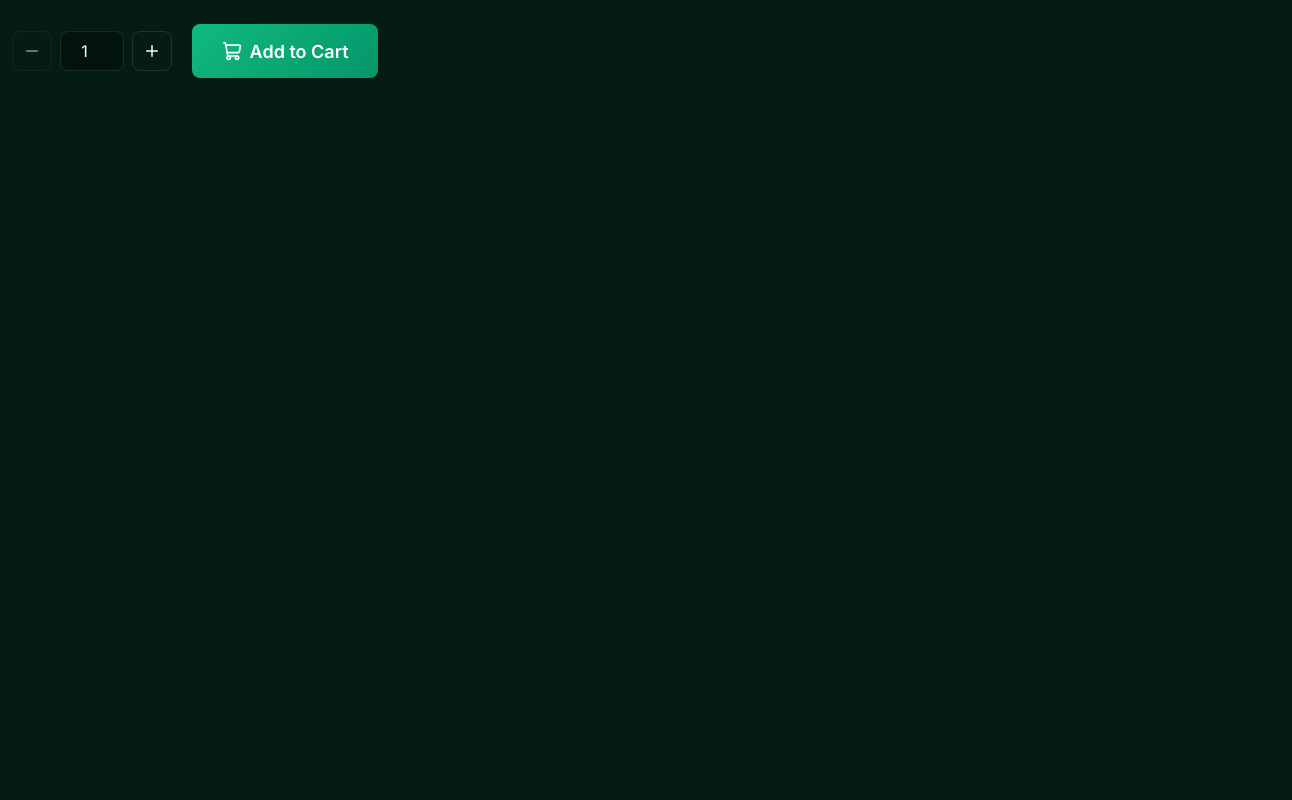
it: ProductActions — Add to Cart (FD-10) › submits the product id and selected quantity to the cart API
What coordinates should you click on to do the following:
click the button named "Increase quantity"
I would click on:
 (152, 51)
Its box is [132, 31, 172, 71].
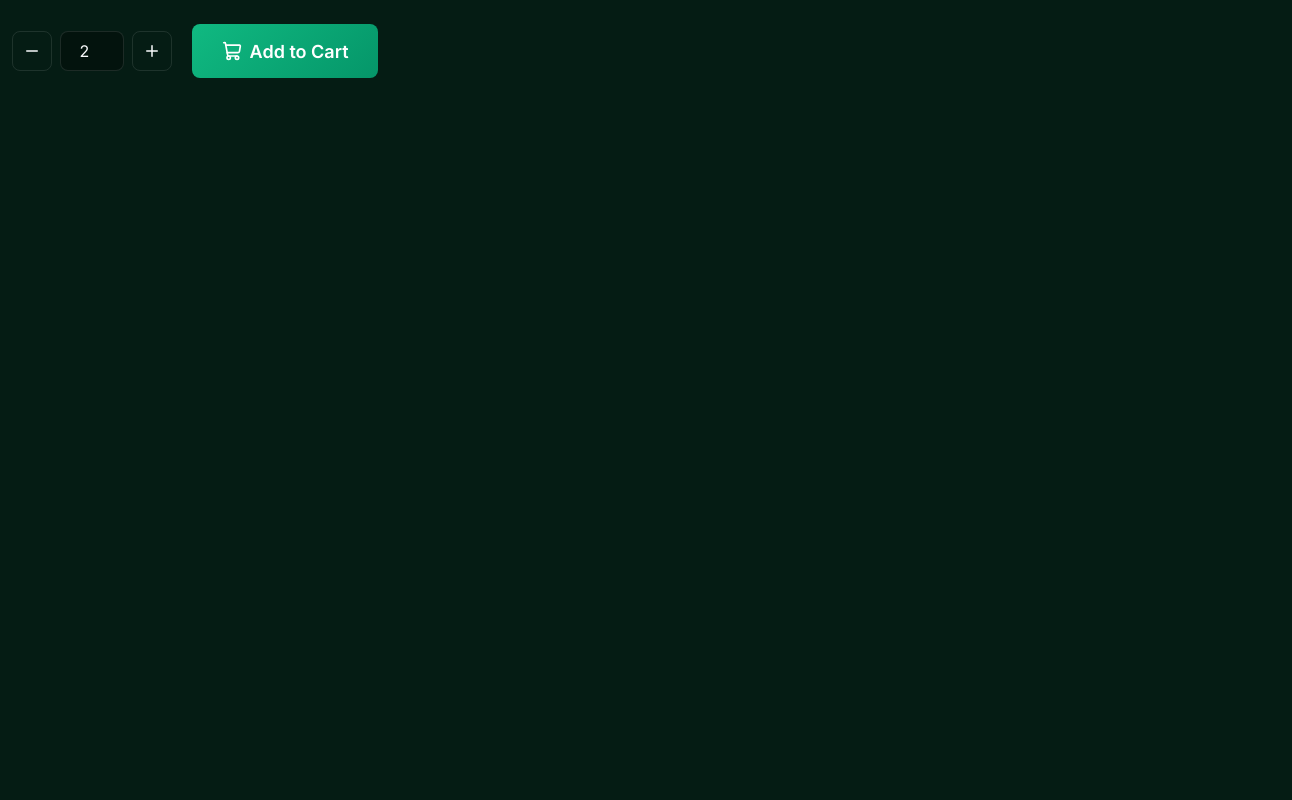
What coordinates should you click on to do the following:
click the button "Add to Cart"
I would click on:
 (285, 51)
Its box is [192, 24, 378, 78].
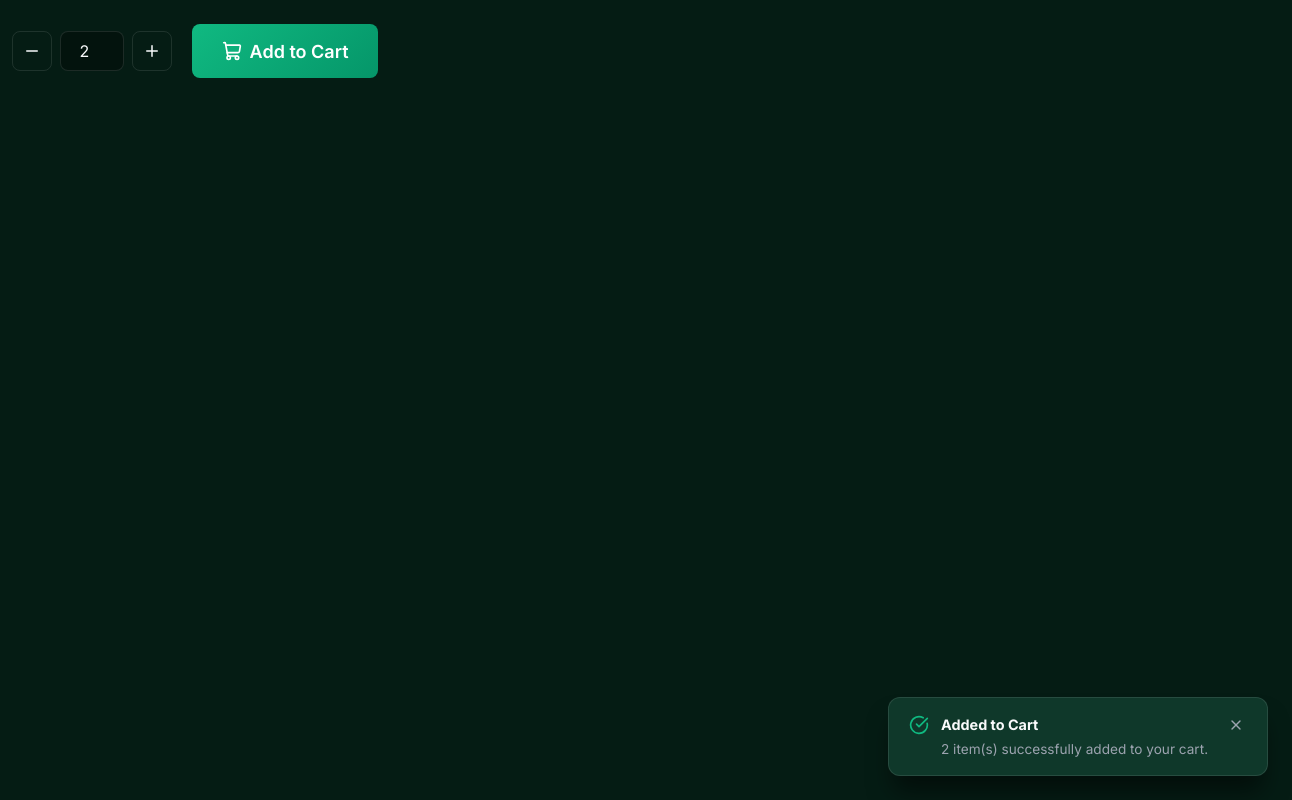
Check: the text "Added to Cart" is shown, box [941, 716, 1038, 733]
